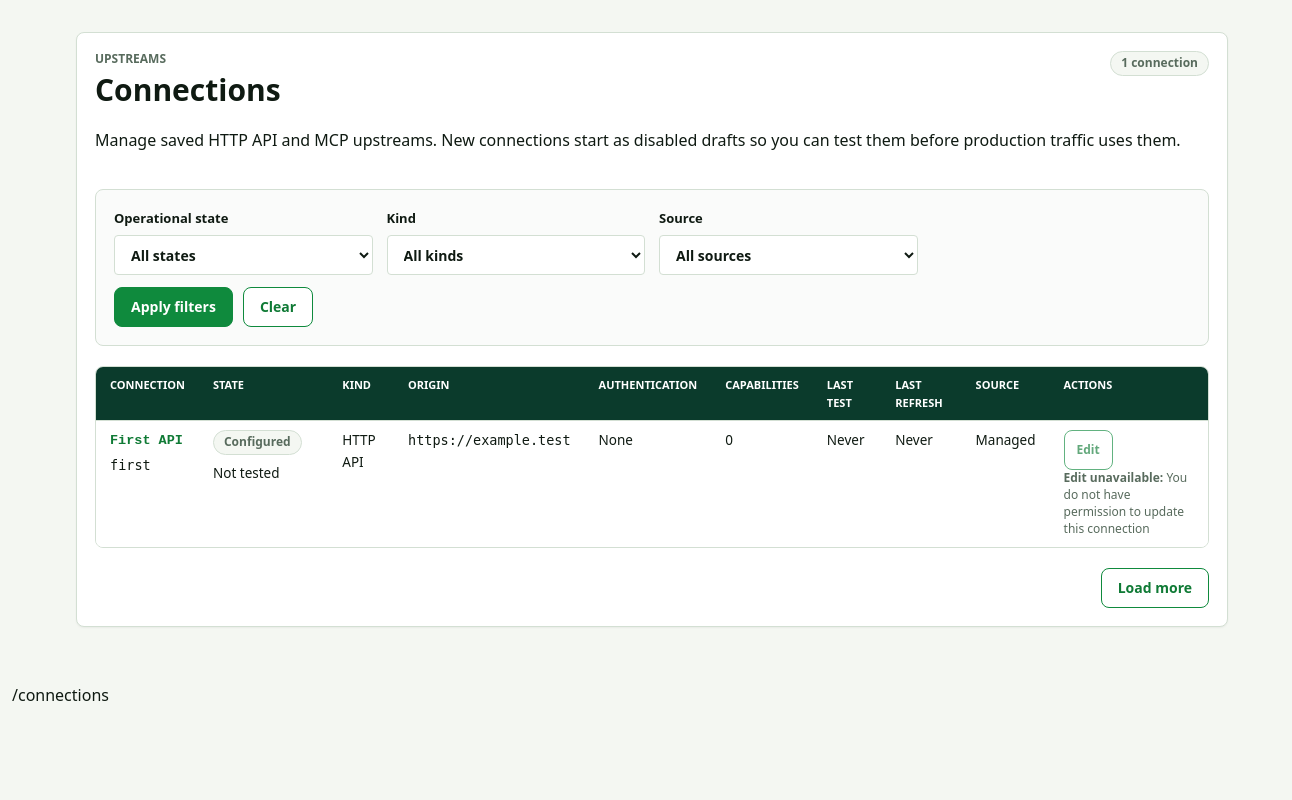
ConnectionsView › aborts an old cursor page before applying new filters
This screenshot has width=1292, height=800.
Expected: the link "First API" is shown, [110, 430, 185, 452]
Click the button "Load more". click: (1155, 588)
box: [1101, 568, 1209, 608]
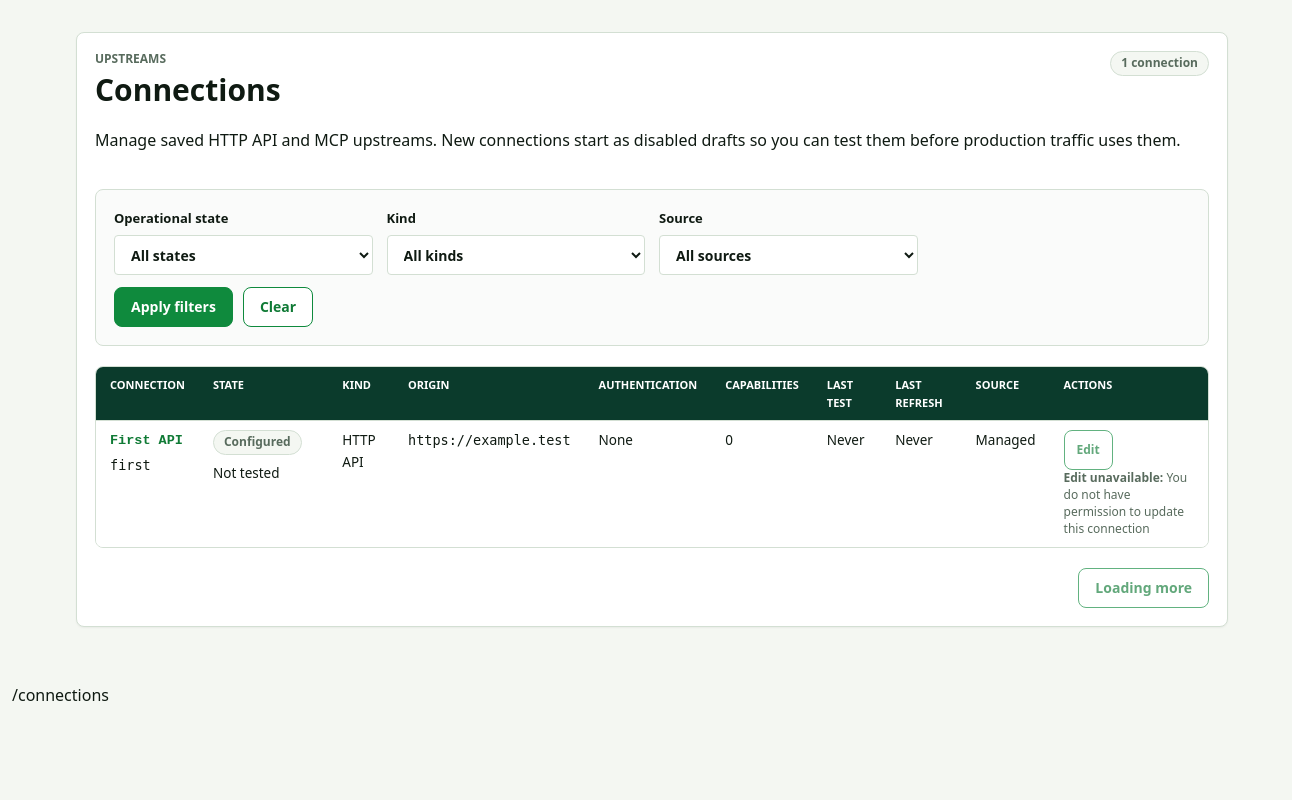
Select "Degraded" in the dropdown labelled "Operational state". click: (243, 255)
box: [114, 235, 372, 275]
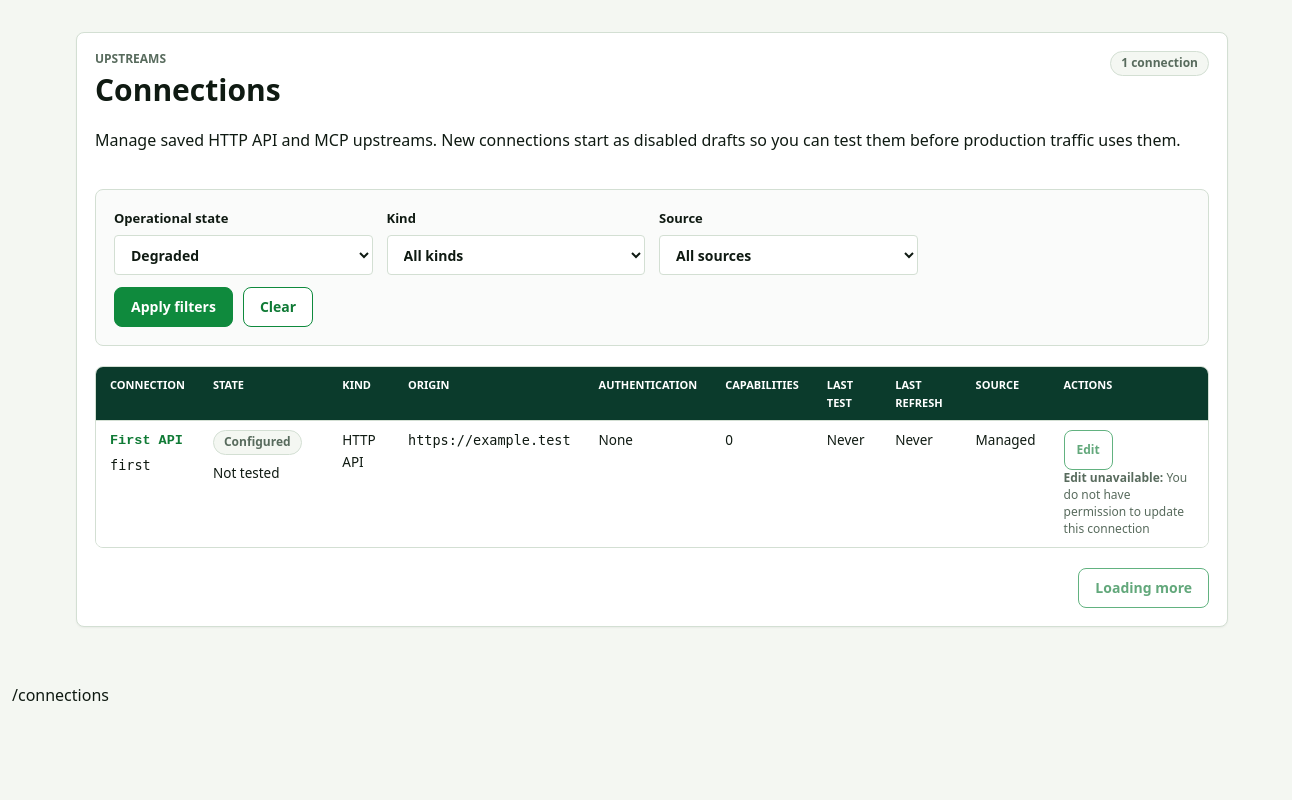
Click the button "Apply filters". click: (173, 307)
box: [114, 287, 233, 327]
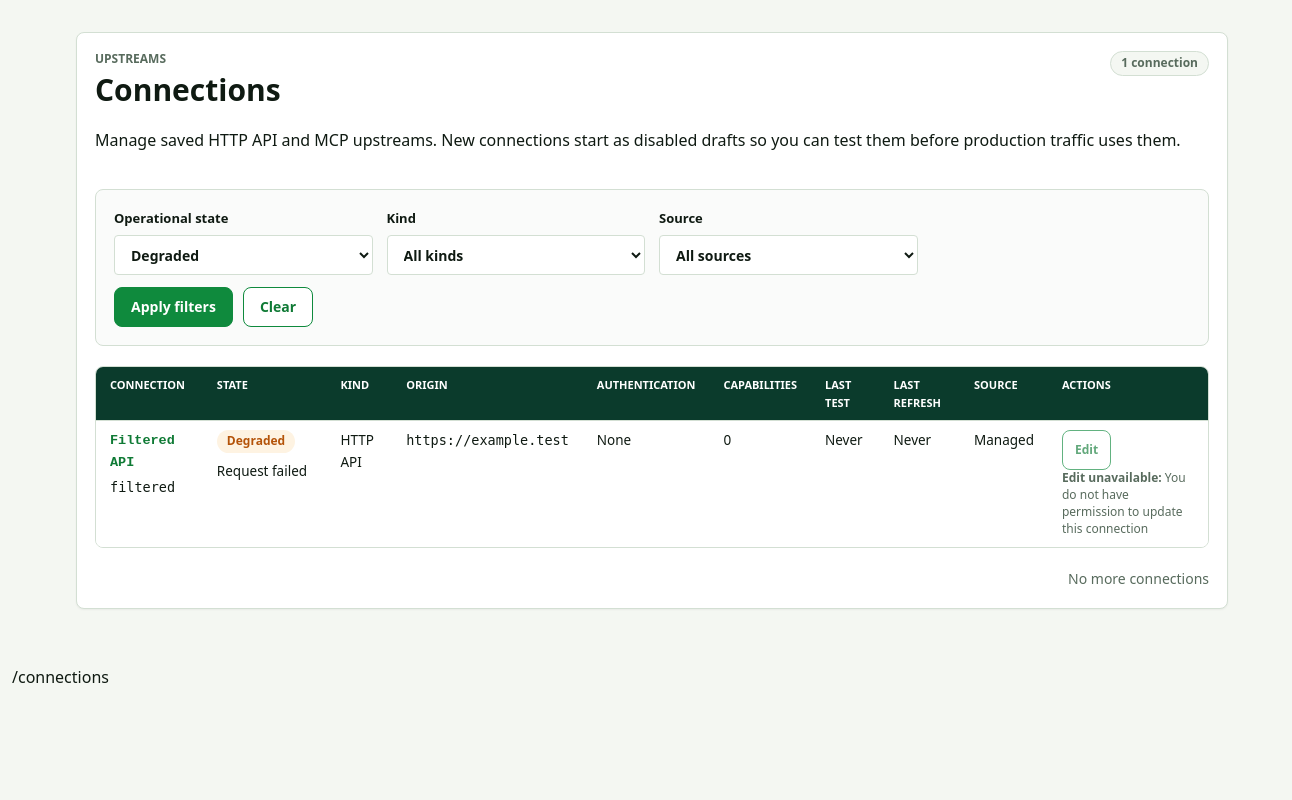
Result: the link "Filtered API" is shown at [110, 433, 175, 470]
